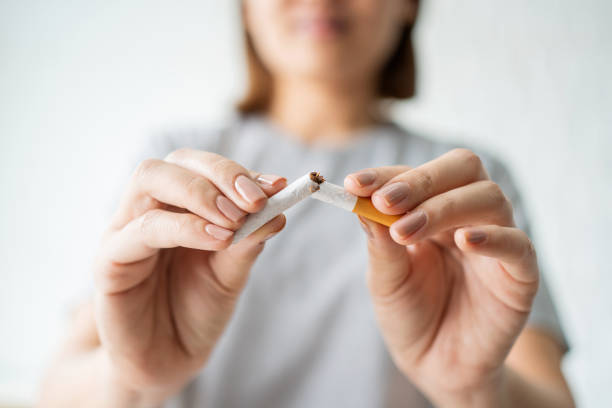cigarette: (230, 168, 328, 244), (309, 180, 407, 227)
